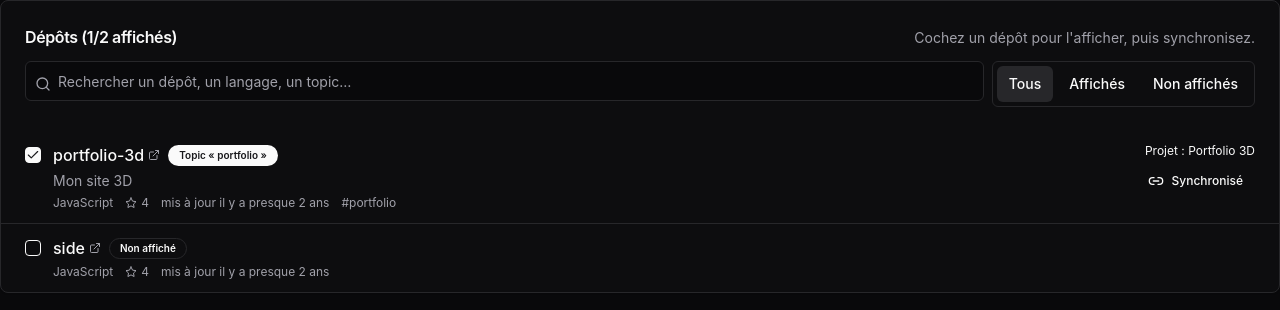
Scenario: GithubRepoList › filters and toggles repositories
Expected: the heading "Dépôts (1/2 affichés)" is shown, [25, 25, 177, 49]
Click the checkbox named "Afficher side dans le portfolio" at (33, 248), box [25, 240, 41, 256]
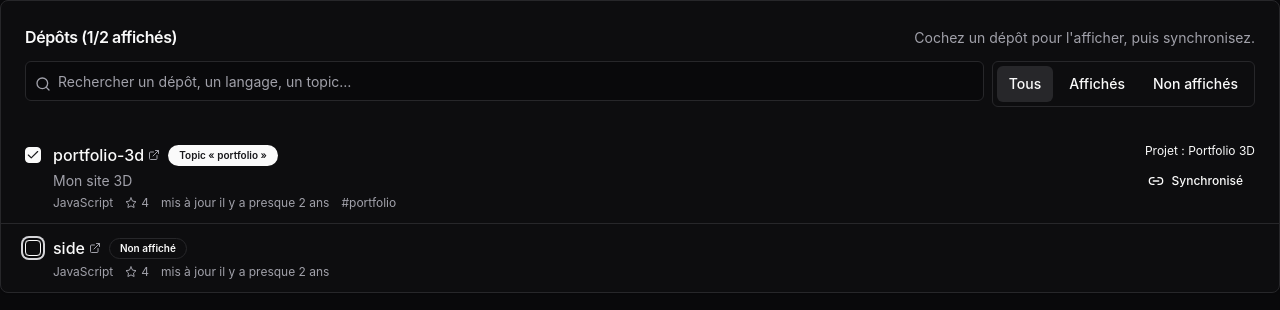
Click the button "Synchronisé" at (1195, 181), box [1136, 167, 1255, 195]
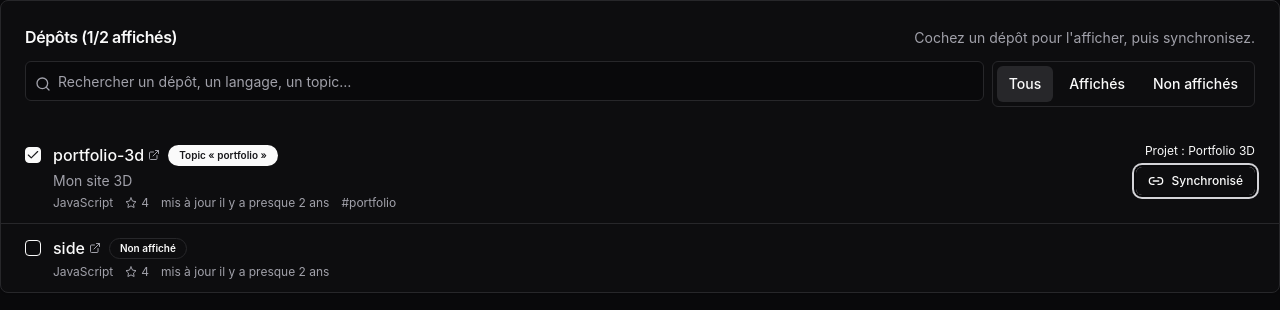
Type "side" into the field labelled "Rechercher un dépôt" at (504, 81), box [25, 61, 984, 101]
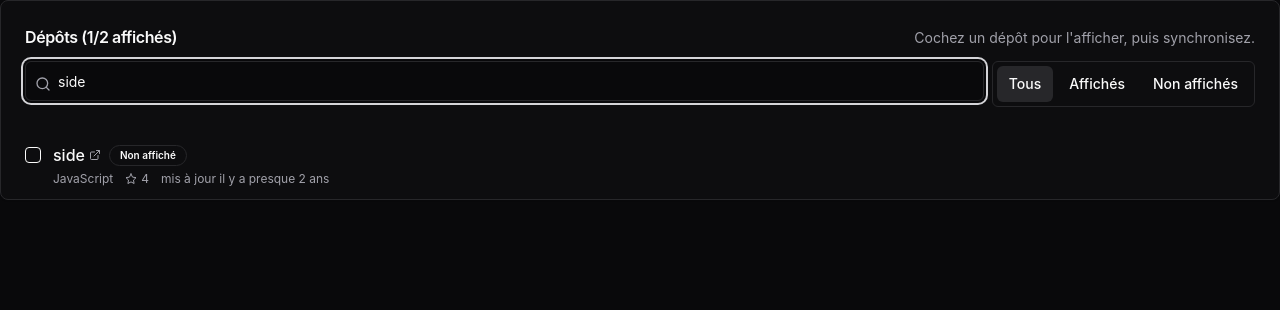
Expected: the list item with test id "repo-side" is shown, [25, 144, 329, 186]
Expected: the list item with test id "repo-portfolio-3d" is gone
Clear the field named "Rechercher un dépôt" at (504, 81), box [25, 61, 984, 101]
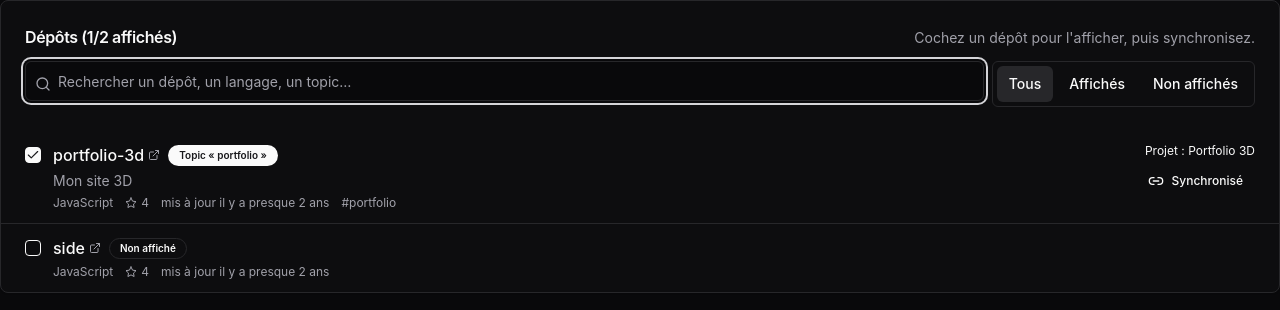
Click the button "Affichés" at (1097, 84), box [1057, 66, 1137, 102]
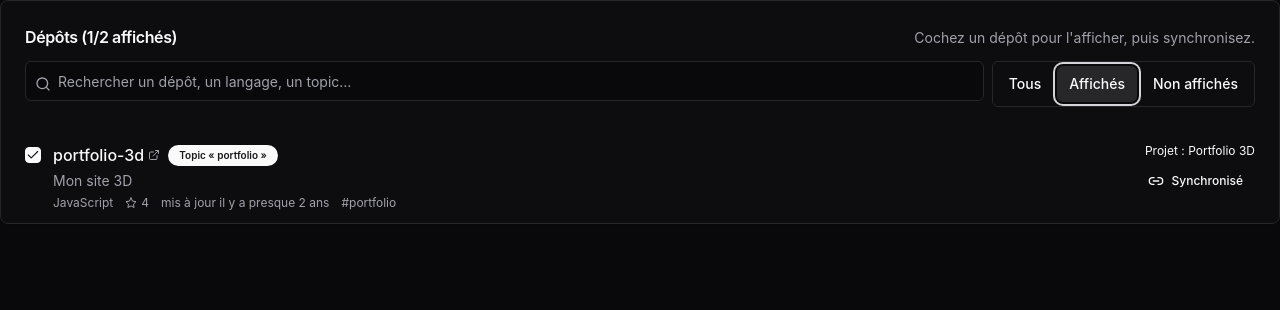
Expected: the list item with test id "repo-side" is gone
